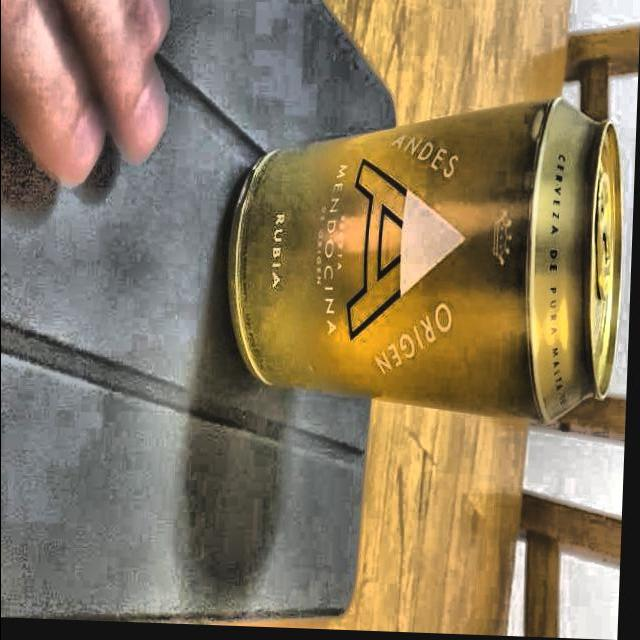litter: (205, 86, 630, 433)
